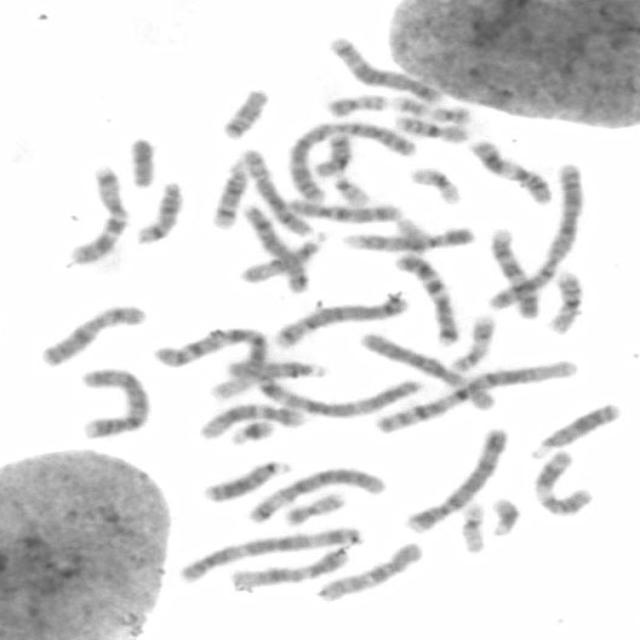A1: (367, 357, 581, 437), (152, 321, 272, 404)
A2: (484, 158, 588, 315), (281, 115, 421, 204)
A3: (220, 352, 428, 420), (173, 523, 364, 586)
B4: (399, 424, 509, 535), (75, 364, 152, 439)
B5: (268, 288, 410, 350), (324, 33, 446, 104)
C10: (312, 538, 426, 604), (284, 195, 404, 224)
C11: (466, 135, 555, 207), (527, 445, 594, 518)
C12: (224, 543, 352, 589), (194, 400, 309, 442)
C6: (353, 328, 502, 415), (243, 465, 389, 524)
C7: (63, 162, 132, 266), (390, 248, 462, 346)
C8: (238, 146, 314, 238), (239, 200, 310, 294)
C9: (485, 224, 542, 320), (338, 222, 479, 255)
D13: (525, 397, 622, 459), (198, 456, 294, 504)
D14: (132, 176, 186, 245), (206, 159, 250, 230)
D15: (234, 229, 328, 285), (221, 356, 332, 382)
E16: (540, 266, 586, 336), (391, 110, 472, 145)
E17: (446, 309, 499, 374), (391, 93, 474, 125)
E18: (216, 82, 272, 141), (311, 132, 354, 178)
F19: (405, 164, 463, 207), (457, 498, 488, 555)
F20: (281, 488, 347, 526), (322, 90, 390, 118)
G21: (227, 415, 280, 446), (486, 493, 522, 538)
G22: (392, 214, 432, 256), (330, 175, 371, 209)
X: (35, 300, 148, 368)
Y: (124, 132, 158, 189)
